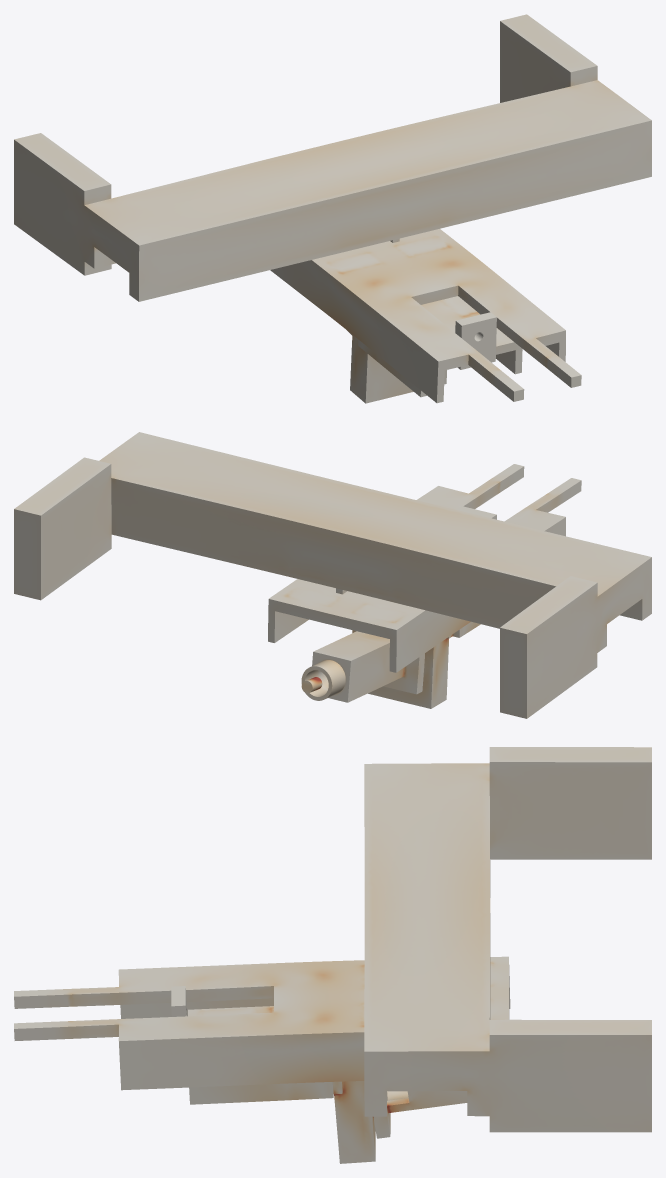
The model's file is gantry_h6_c10_Fy_vm.glb.
3 renders of one model, top to bottom at view 1: azimuth 30°, elevation 25°; view 2: azimuth 150°, elevation 25°; view 3: azimuth 270°, elevation 25°, orthographic. The views are drawn at different scales.
Parts seen in each view (by area): view 1: geometry_0; view 2: geometry_0; view 3: geometry_0.
Part boxes in pixels (box(x1,y1,x2,y2)): geometry_0: box(14, 14, 651, 403); geometry_0: box(14, 432, 651, 718); geometry_0: box(14, 747, 651, 1163).
Bounding box in the file's own units: 761 × 308 × 712.
